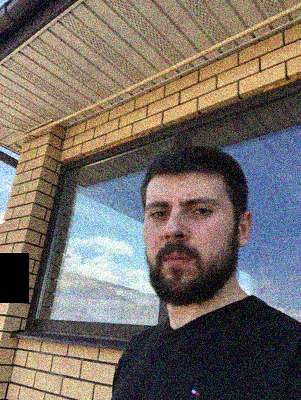without_mask: (141, 187, 237, 307)
